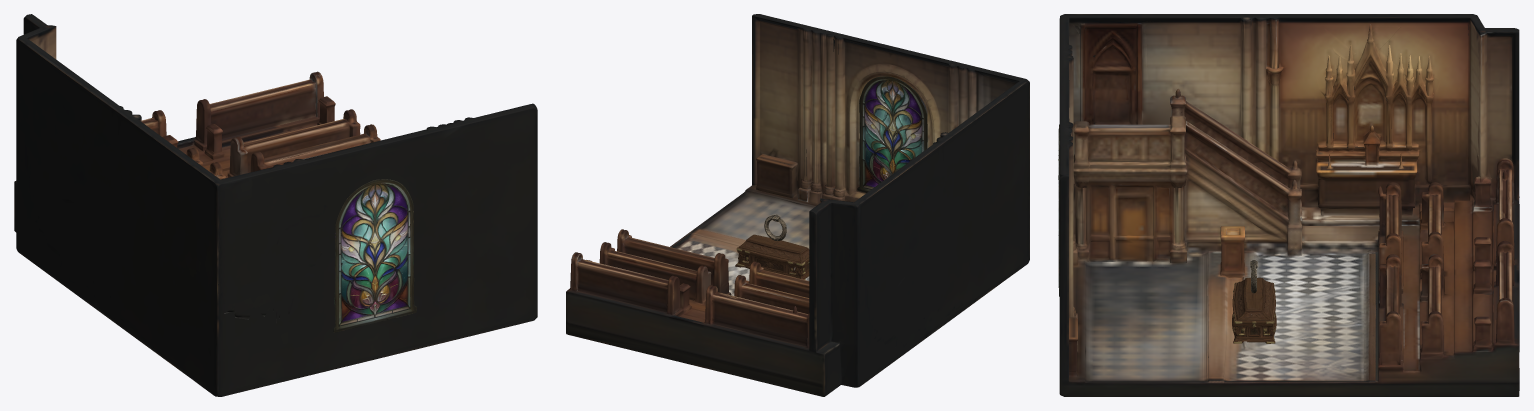
The model's file is church_staging4.glb.
3 renders of one model, left to right at view 1: azimuth 30°, elevation 25°; view 2: azimuth 150°, elevation 25°; view 3: azimuth 270°, elevation 25°, orthographic. The views are drawn at different scales.
Visible parts, largest first — view 1: node_0.006; view 2: node_0.006; view 3: node_0.006.
Boxes of the visible parts, box(x1,y1,x2,y2) form: node_0.006: box(14, 14, 537, 396); node_0.006: box(566, 14, 1029, 396); node_0.006: box(1058, 14, 1519, 396).
Size of the model in its own units: 10.69 by 6.8 by 12.84.
Materials: 4 (4 with a texture image).
